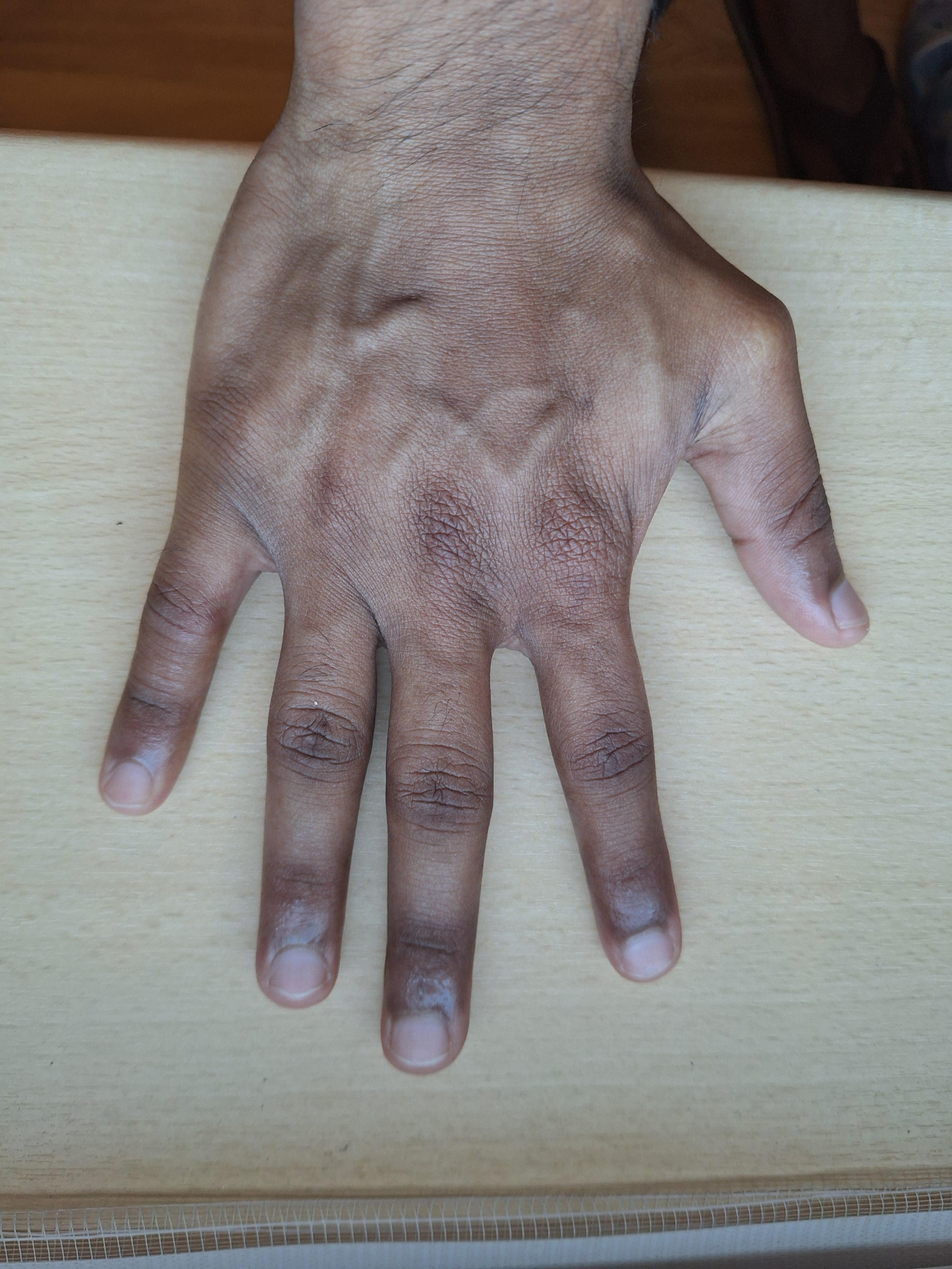Fingernail: (391, 1014, 451, 1066), (270, 948, 328, 998), (622, 930, 676, 977), (105, 761, 152, 807), (831, 579, 869, 630)
